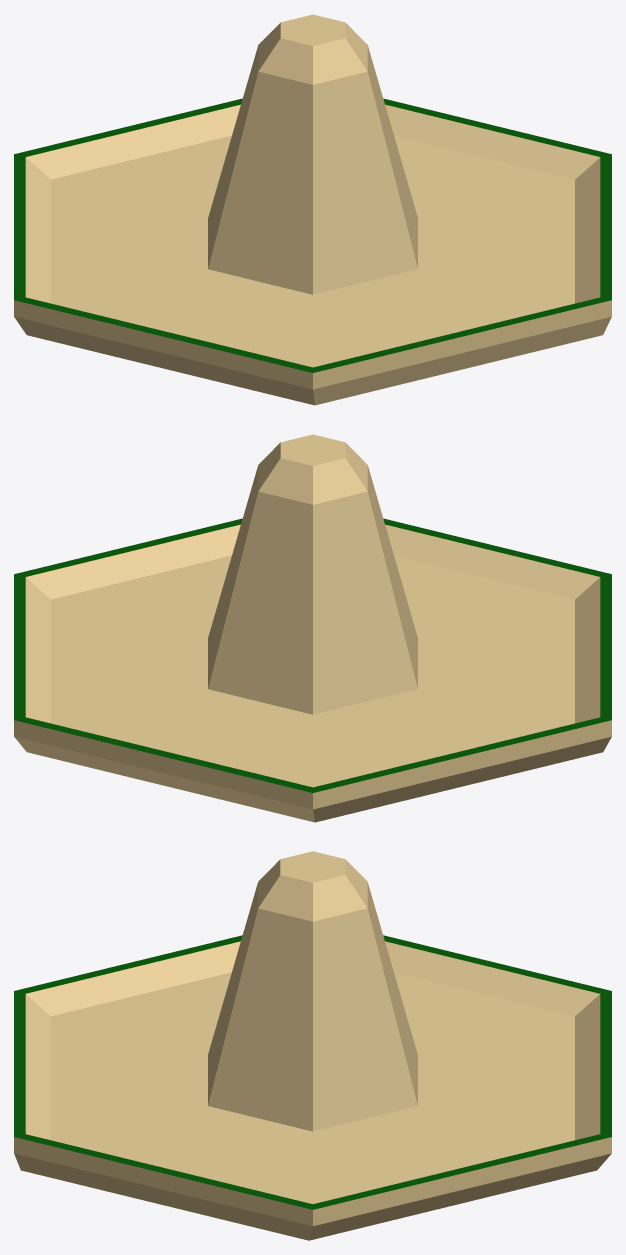
Rendered from gorroMexicano.fbx.
3 renders of one model, top to bottom at view 1: azimuth 30°, elevation 25°; view 2: azimuth 150°, elevation 25°; view 3: azimuth 270°, elevation 25°, orthographic.
Visible parts, largest first — view 1: GorroMexicano; view 2: GorroMexicano; view 3: GorroMexicano.
Part boxes in pixels (x1,y1,x2,y2): GorroMexicano: (14, 14, 611, 405); GorroMexicano: (14, 434, 611, 822); GorroMexicano: (14, 851, 611, 1240).
Bounding box in the file's own units: 74.44 × 27.73 × 64.47.
